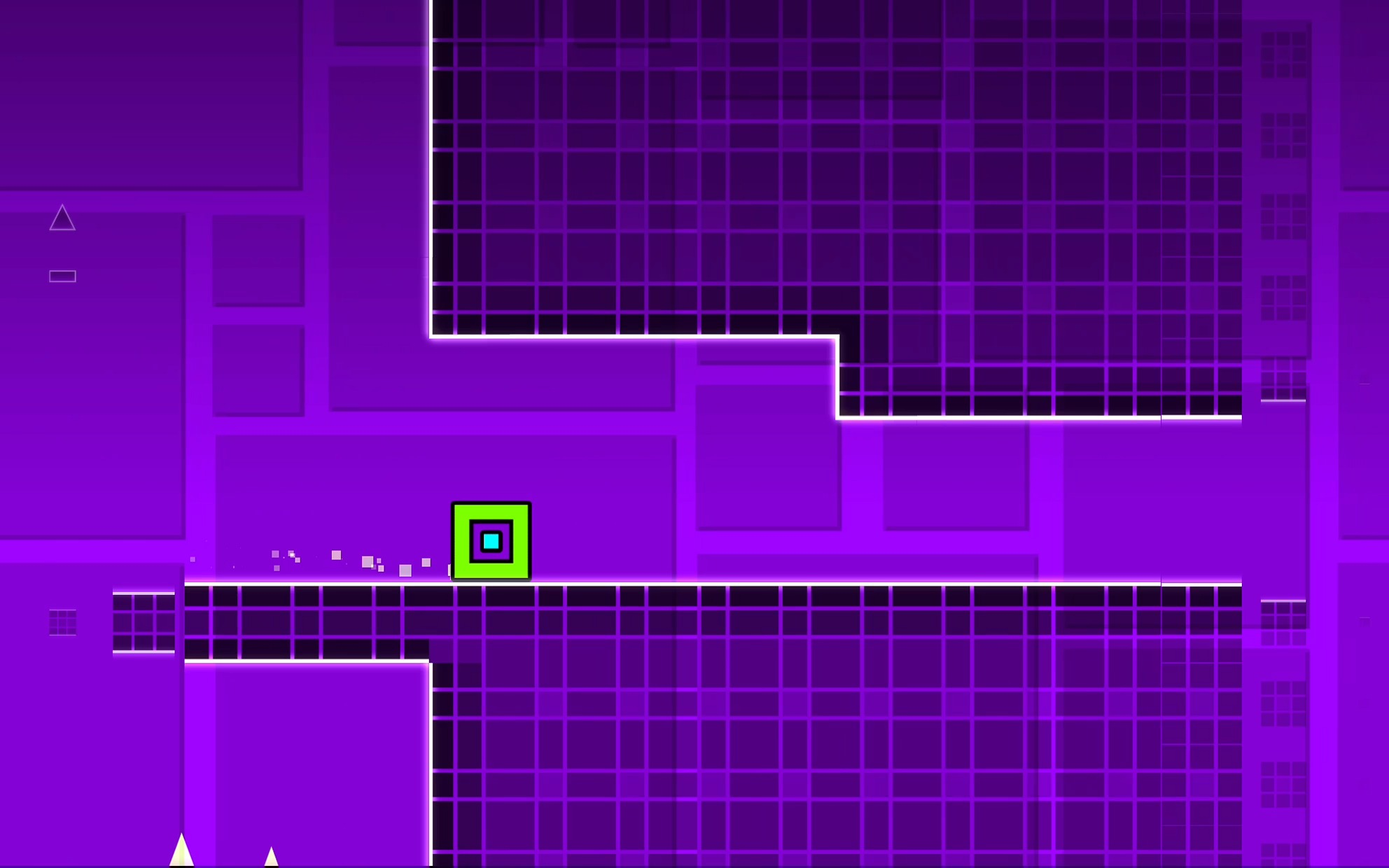Block2: (433, 0, 1272, 333), (431, 576, 1264, 850), (840, 335, 1326, 417), (156, 581, 434, 657)
Player: (453, 499, 533, 577)
